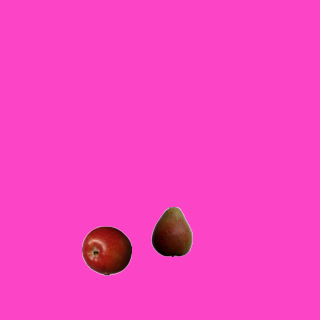Apple Braeburn: (81, 225, 131, 275)
Pear Forelle: (146, 206, 196, 256)
